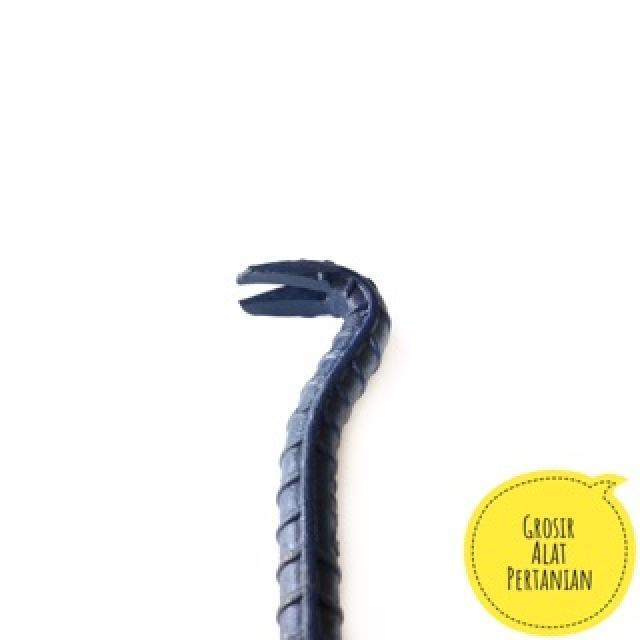Linggis: (224, 250, 400, 640)
